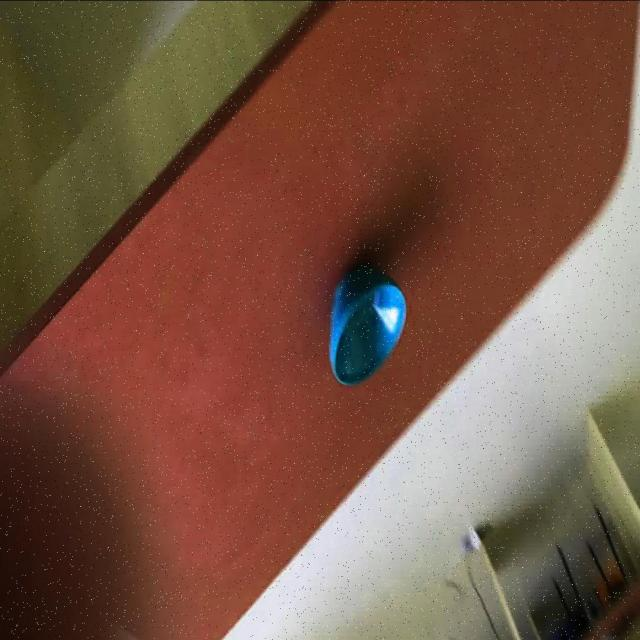Bowl: (0, 0, 640, 640), (327, 265, 407, 384)
